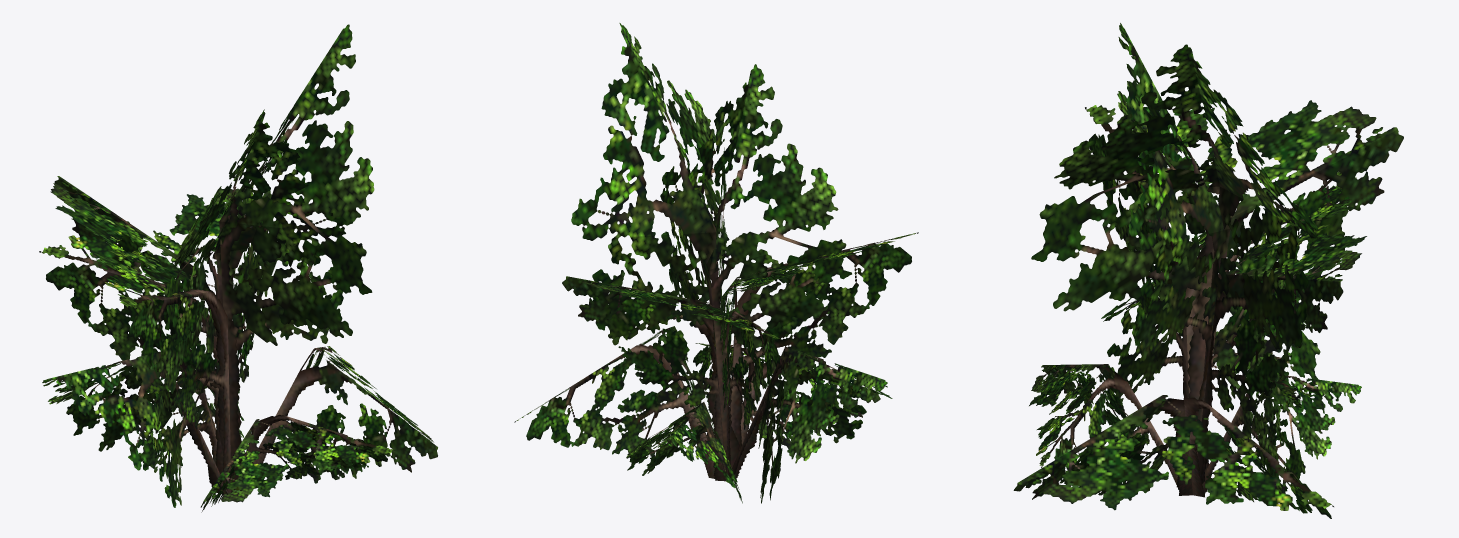
Rendered from naflbu6.dae.
3 renders of one model, left to right at view 1: azimuth 30°, elevation 25°; view 2: azimuth 150°, elevation 25°; view 3: azimuth 270°, elevation 25°, orthographic. The views are drawn at different scales.
Parts seen in each view (by area): view 1: crown; view 2: crown; view 3: crown.
Boxes of the visible parts, bbox=[...] form: crown: bbox=[39, 24, 437, 512]; crown: bbox=[514, 23, 918, 503]; crown: bbox=[1013, 23, 1403, 518].
Size of the model in its own units: 0.5831 by 0.5853 by 0.7178.
Materials: 1 (1 with a texture image).
